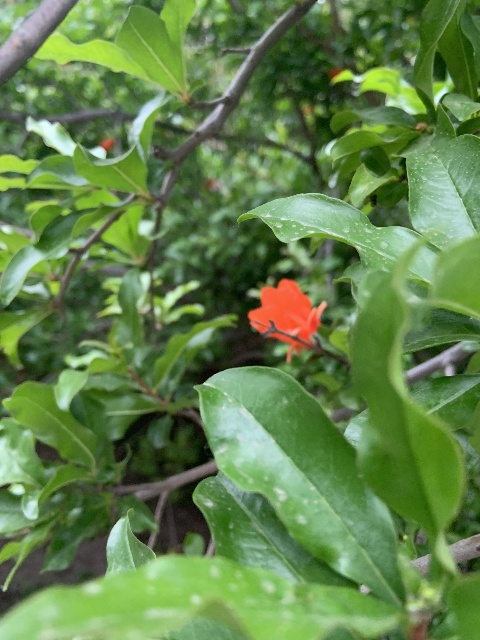flower: (247, 277, 327, 362)
